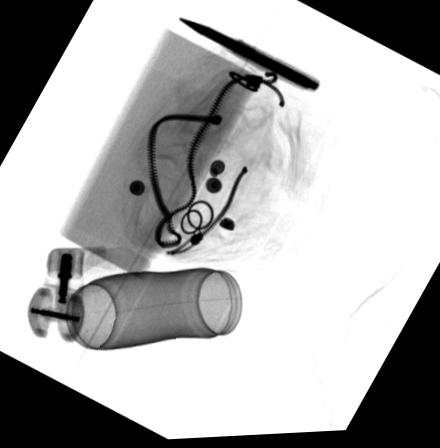Pliers: (178, 17, 321, 96)
